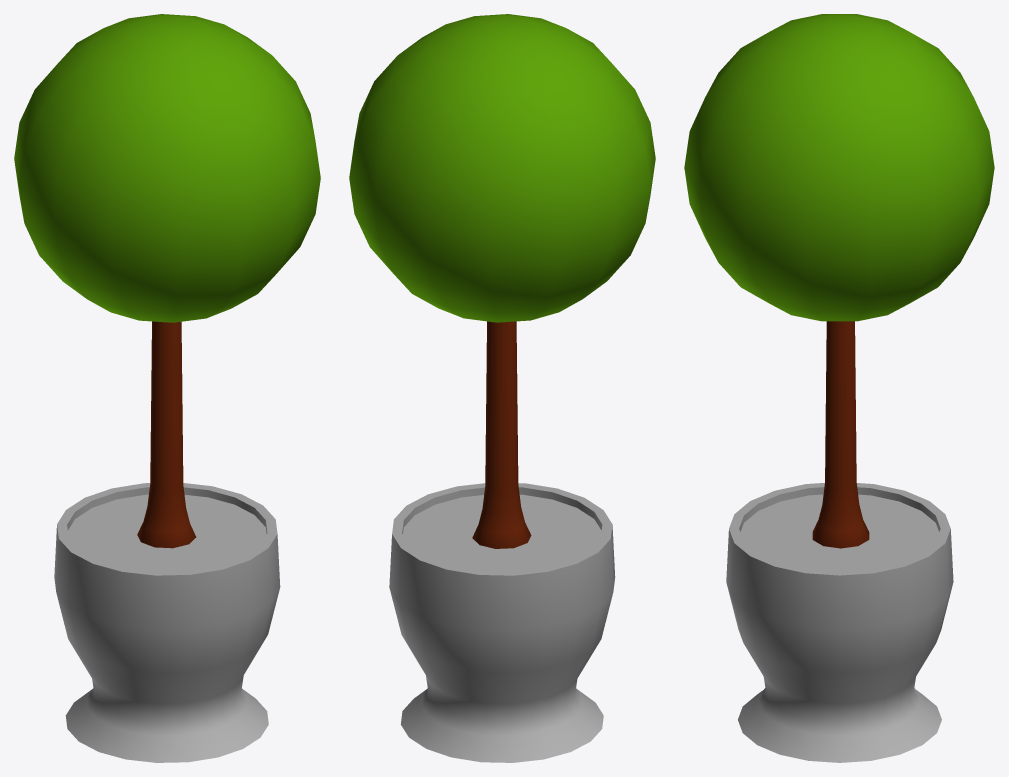
Rendered from tree.fbx.
3 views of the same model, side by side, from view 1: azimuth 30°, elevation 25°; view 2: azimuth 150°, elevation 25°; view 3: azimuth 270°, elevation 25° (orthographic).
Parts seen in each view (by area): view 1: Cylinder.025; view 2: Cylinder.025; view 3: Cylinder.025.
Boxes of the visible parts, x1,y1,x2,y2 form: Cylinder.025: (14,14,320,762); Cylinder.025: (349,14,655,762); Cylinder.025: (684,14,994,762).
Bounding box in the file's own units: 129 × 326 × 133.
